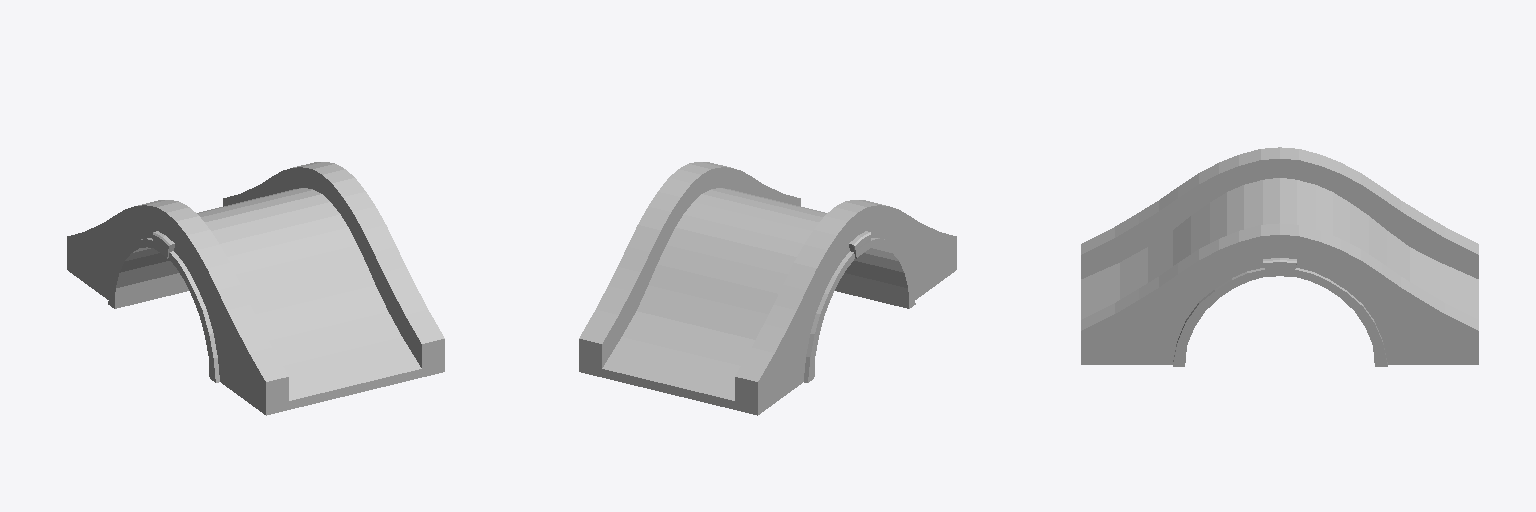
The model's file is bridgeModel.obj.
3 views of the same model, side by side, from view 1: azimuth 30°, elevation 25°; view 2: azimuth 150°, elevation 25°; view 3: azimuth 270°, elevation 25° (orthographic).
Visible parts, largest first — view 1: Cube; view 2: Cube; view 3: Cube.
Boxes of the visible parts, x1=… form: Cube: x1=67, y1=162, x2=444, y2=415; Cube: x1=579, y1=162, x2=956, y2=415; Cube: x1=1081, y1=147, x2=1478, y2=366.
Size of the model in its own units: 7.6 by 4.94 by 13.72.